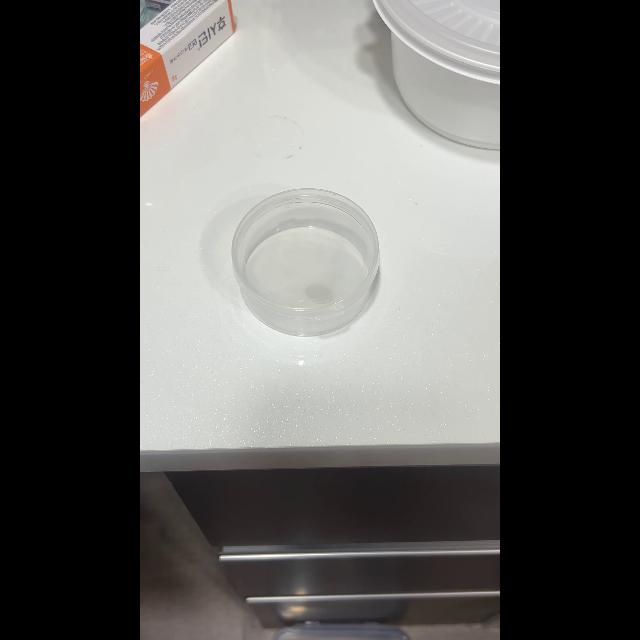clean: (230, 187, 380, 335)
